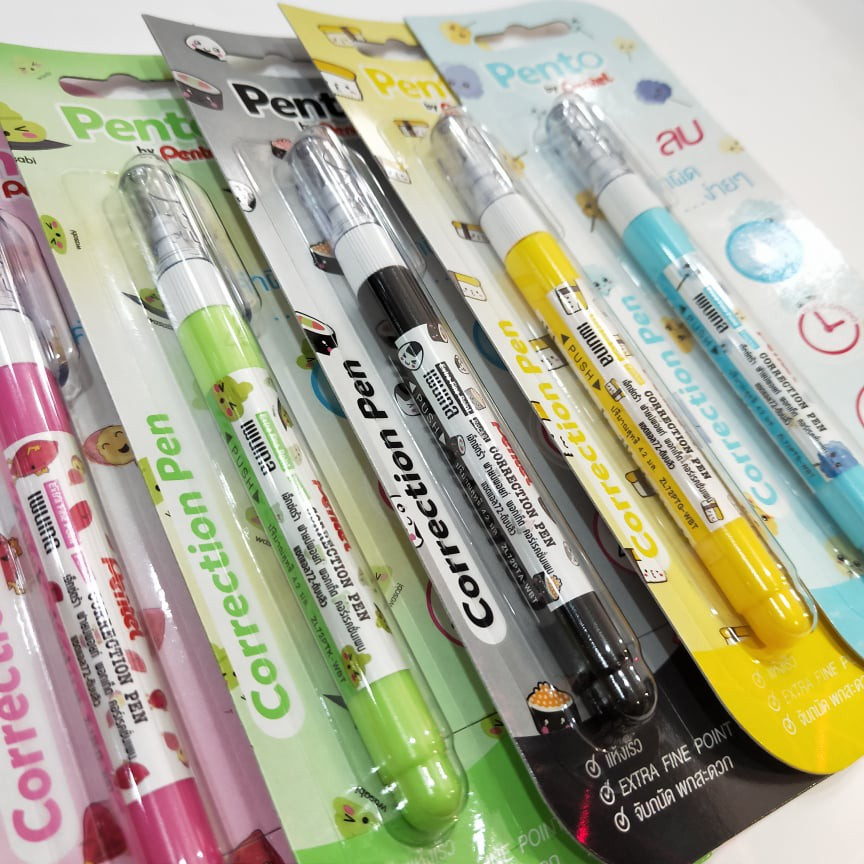Correction_fluid: (114, 161, 468, 845), (284, 126, 653, 741), (425, 107, 816, 657), (541, 91, 864, 565), (1, 215, 233, 864)
